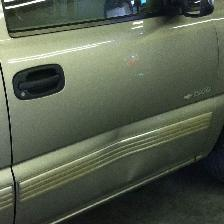dent: (3, 0, 223, 220)
